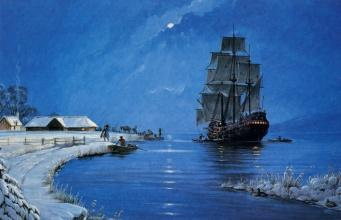fanchuan: (190, 34, 277, 147)
